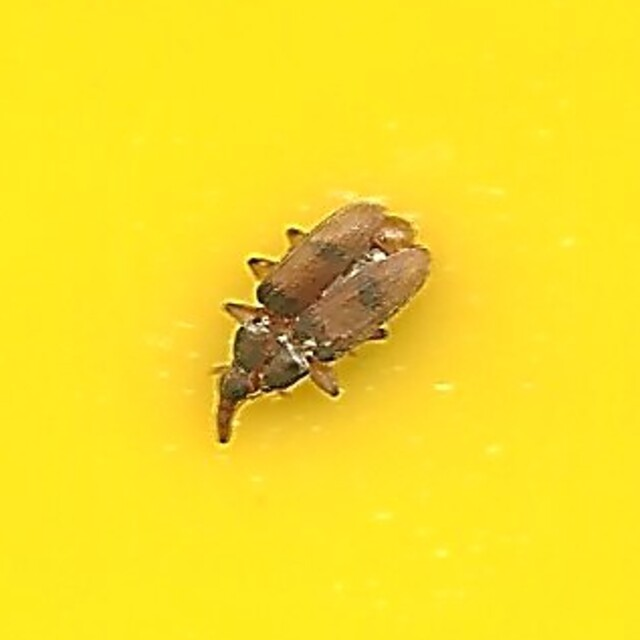Coleoptera: (202, 191, 438, 449)
